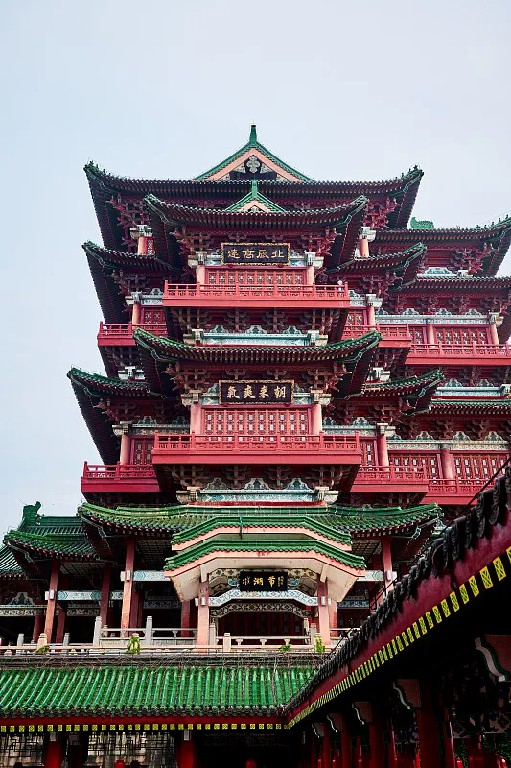Teng: (1, 126, 511, 653)
